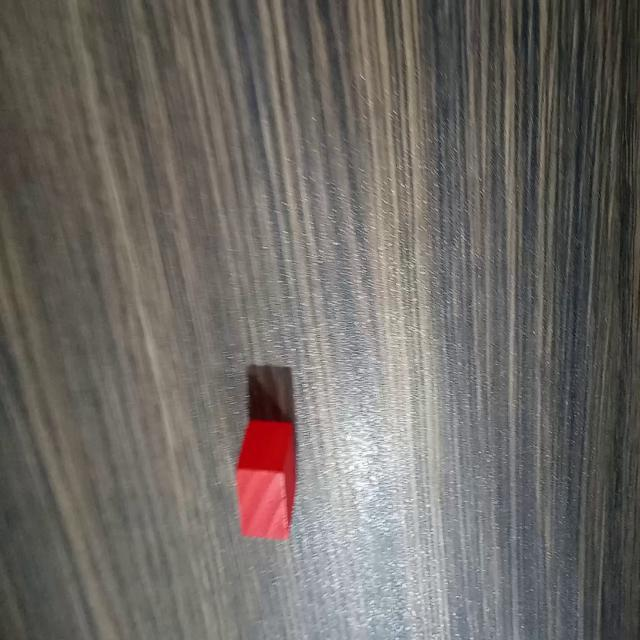cube: (233, 414, 299, 542)
